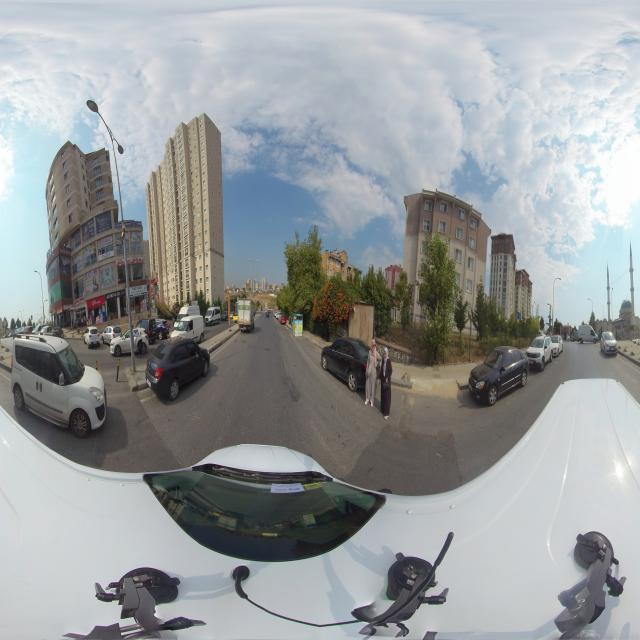SignStore: (97, 235, 113, 250), (130, 284, 146, 297), (90, 296, 104, 308), (106, 290, 121, 300), (100, 250, 113, 261), (128, 257, 144, 264), (74, 296, 85, 306), (100, 263, 114, 269), (125, 222, 141, 226), (56, 305, 63, 313), (114, 222, 122, 228)
